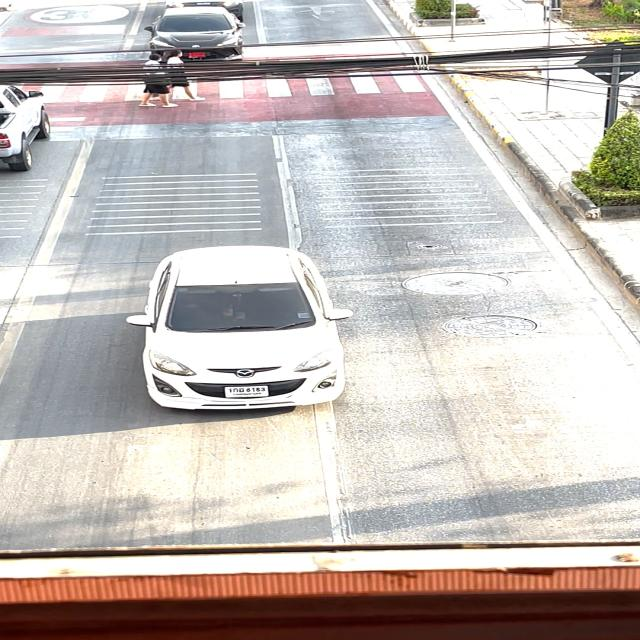car: (95, 235, 392, 435)
